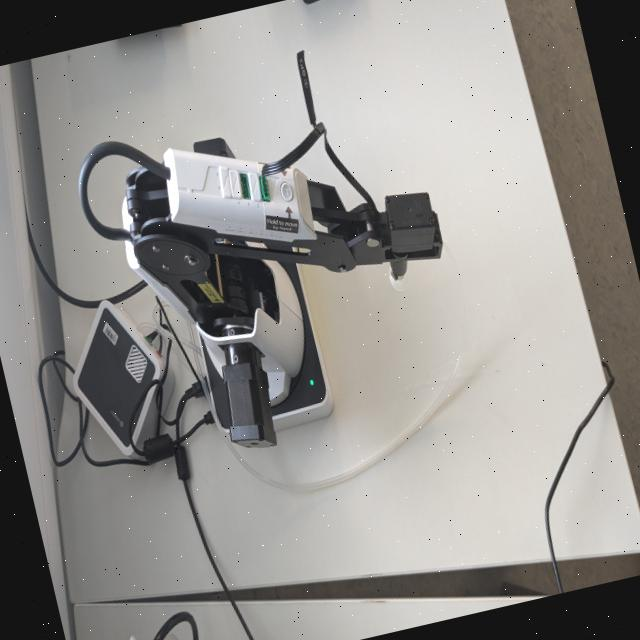Robot-end-effector-HF8z: (359, 174, 456, 304)
